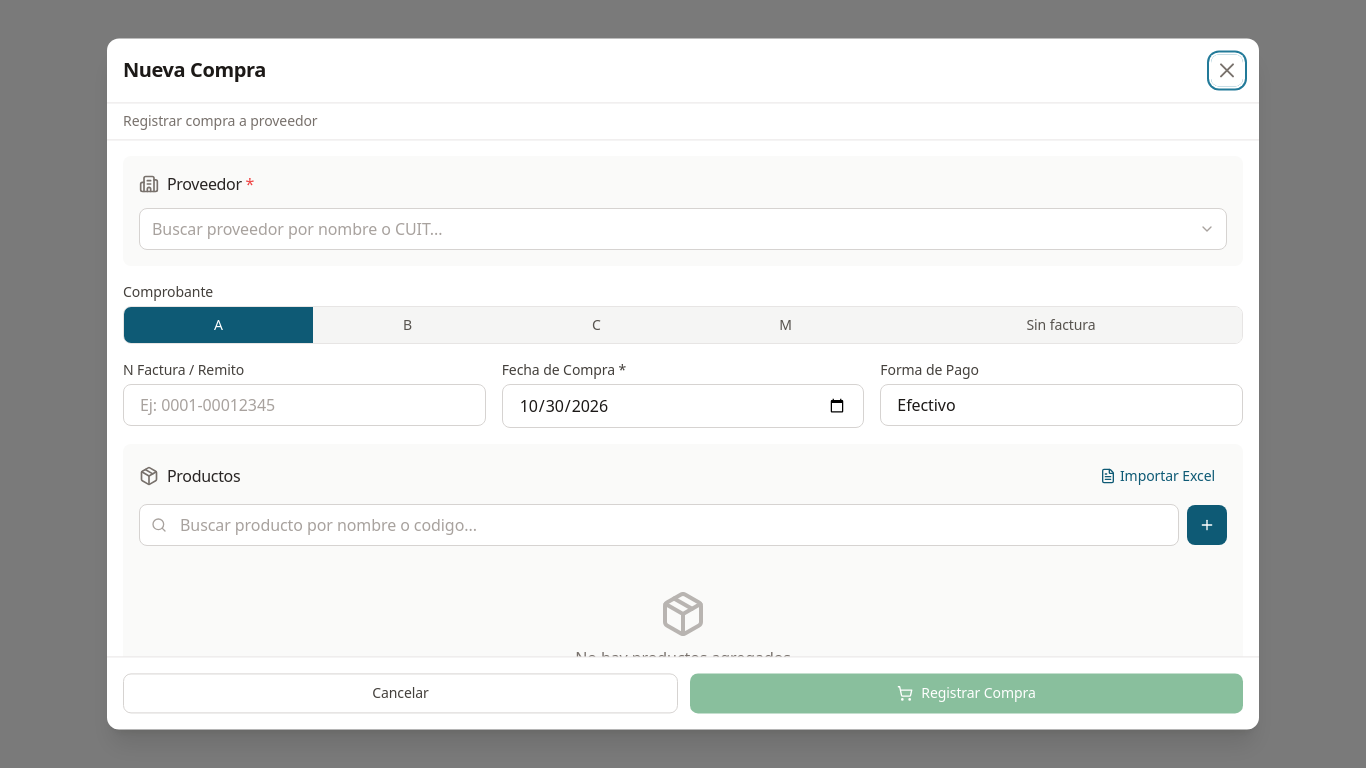
ModalCompra — esqueleto del formulario › pasar a ZZ saca del resumen el gravado, el IVA y las percepciones
Click the field with placeholder "Buscar producto por nombre o codigo..." at (659, 525), box [139, 504, 1179, 546]
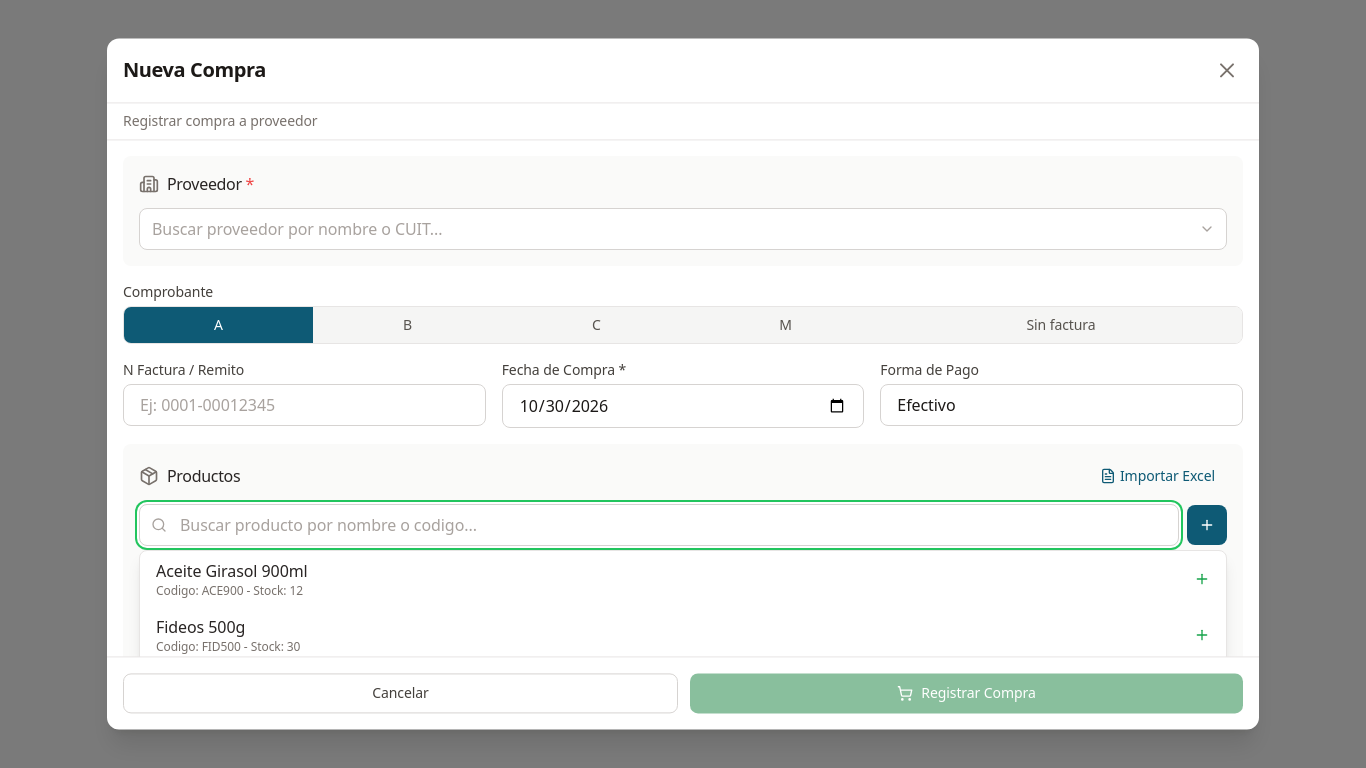
Click the button "Aceite Girasol 900ml Codigo: ACE900 - Stock: 12" at (232, 571), box [140, 551, 1226, 607]
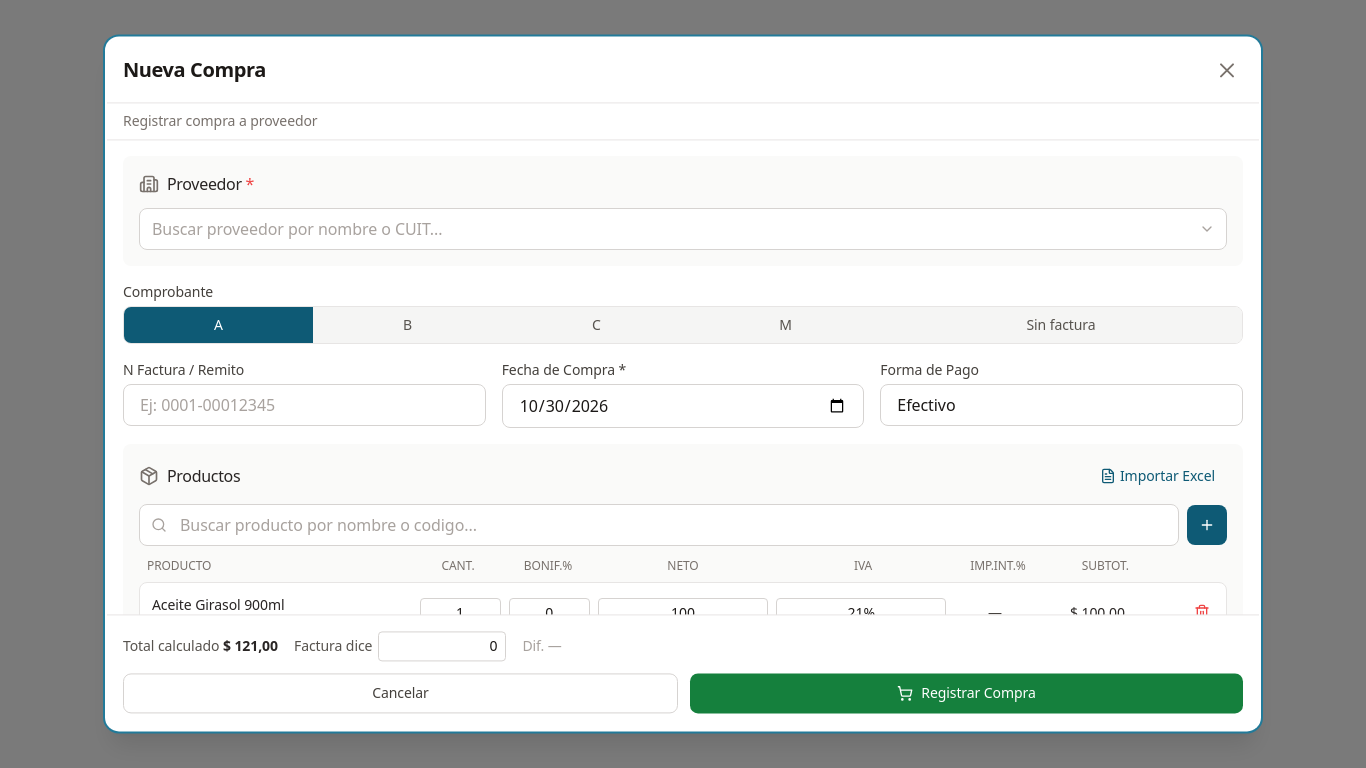
Click the radio button with aria-label "Sin factura (ZZ)" at (1061, 325), box [880, 307, 1242, 343]
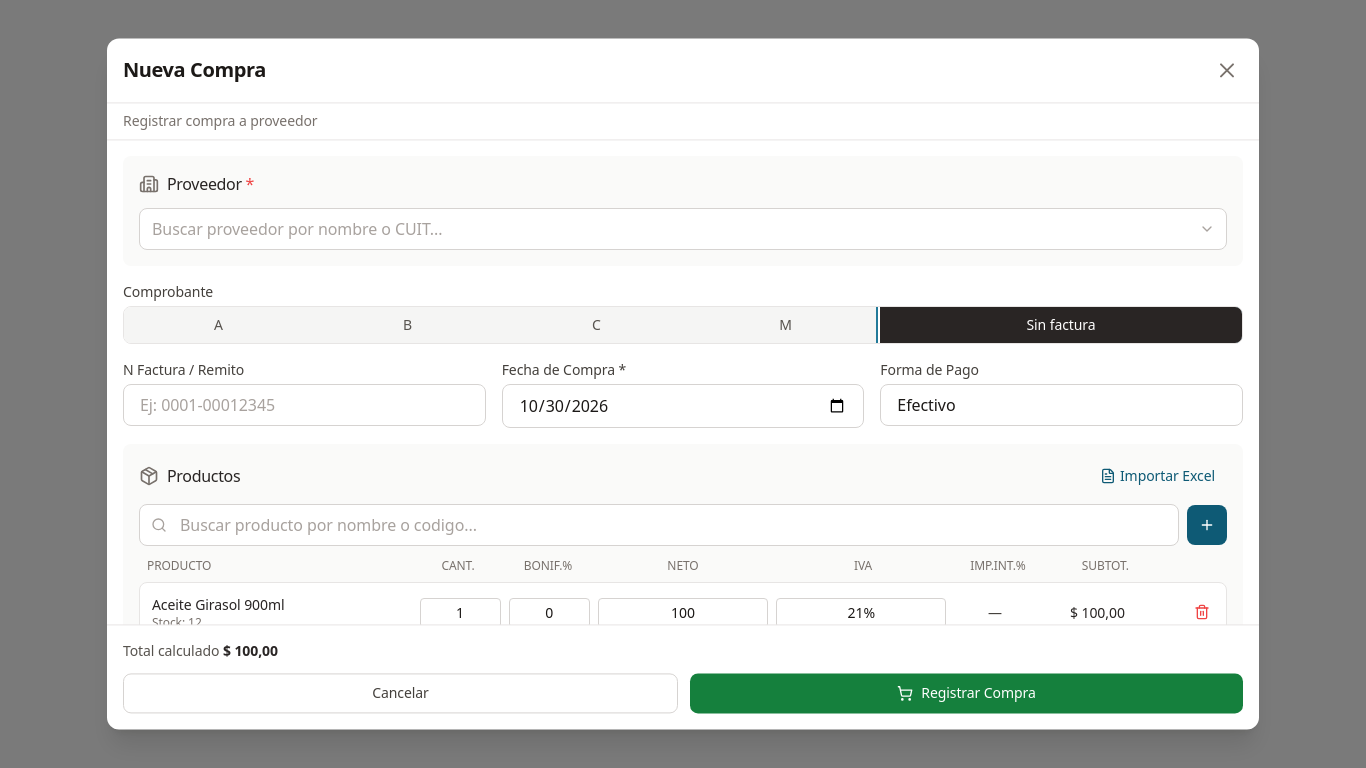
Check: the text "Gravado (neto):" is not shown
Check: the text "IVA (sobre neto" is not shown
Click the radio button named "Factura A" at (218, 325), box [124, 307, 313, 343]
(page scrolled)
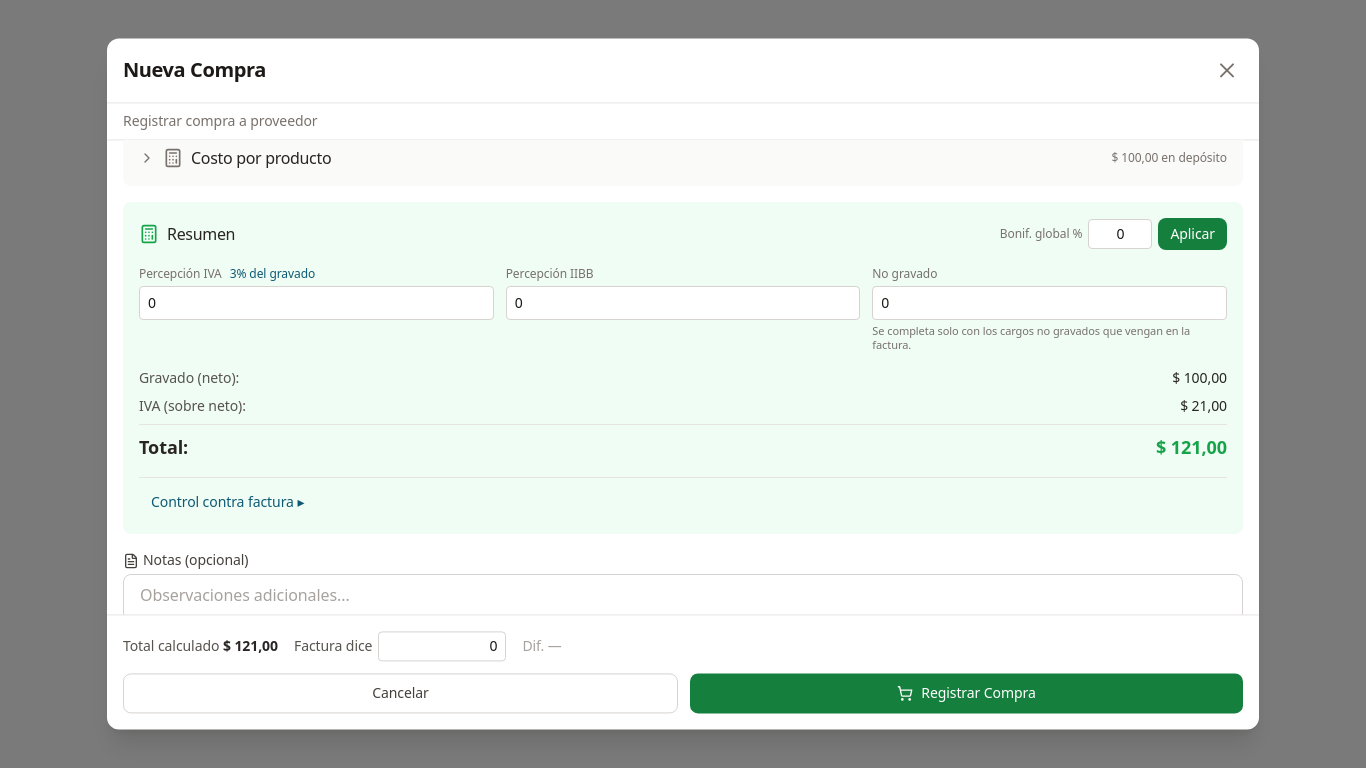
Check: the text "Gravado (neto):" is shown, box [139, 368, 239, 388]
